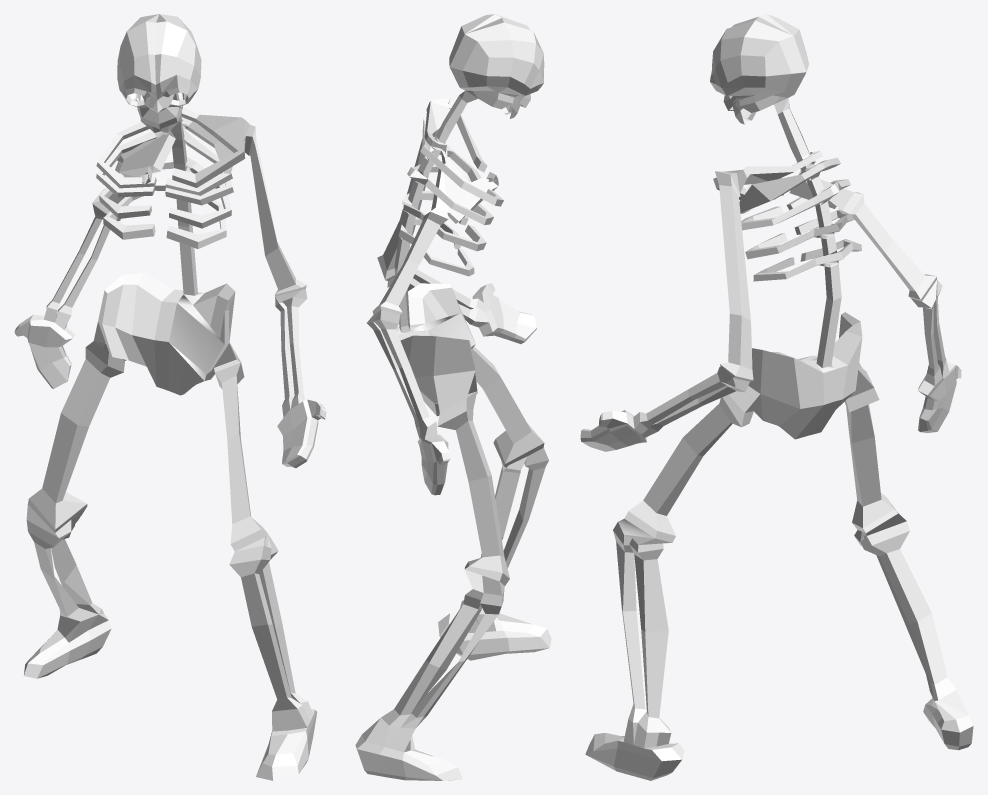
File: SkeletonIdle(93).obj
3 views of the same model, side by side, from view 1: azimuth 30°, elevation 25°; view 2: azimuth 150°, elevation 25°; view 3: azimuth 270°, elevation 25° (orthographic). The views are drawn at different scales.
Parts seen in each view (by area): view 1: Object002; view 2: Object002; view 3: Object002.
Part boxes in pixels (left/top/right/bottom): Object002: left=14, top=14, right=326, bottom=780; Object002: left=355, top=14, right=551, bottom=780; Object002: left=580, top=14, right=973, bottom=780.
Bounding box in the file's own units: 340 × 1130 × 562.
